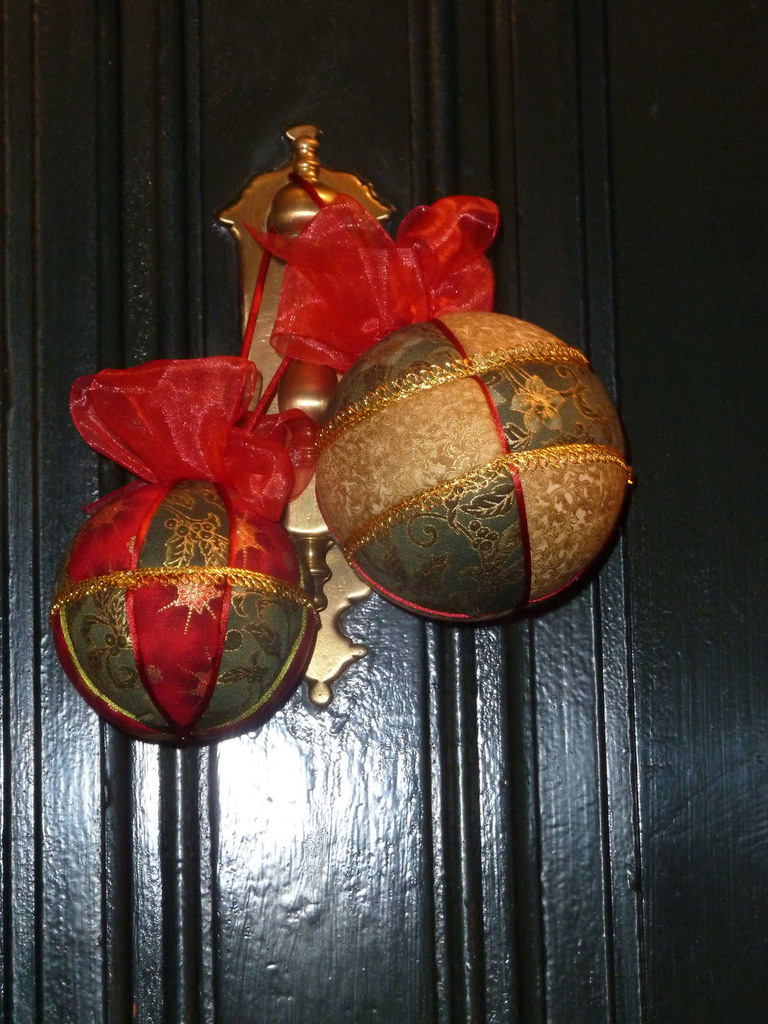Ball: (312, 318, 627, 627), (43, 486, 323, 748)
